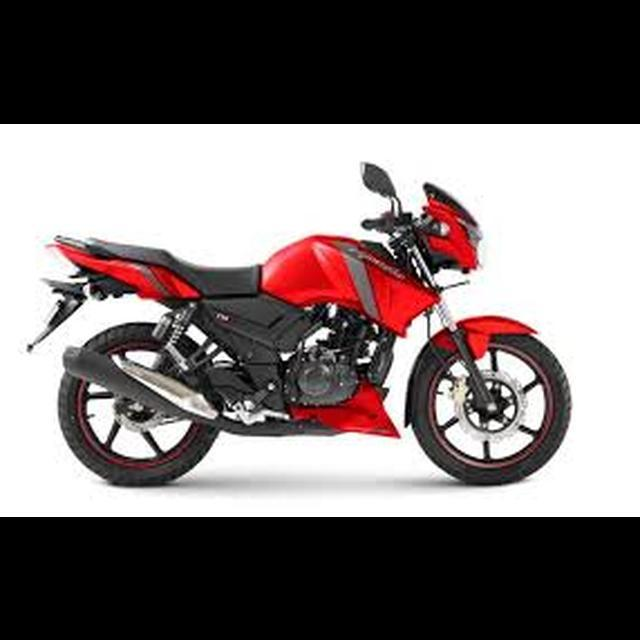motorcycle: (17, 151, 576, 492)
